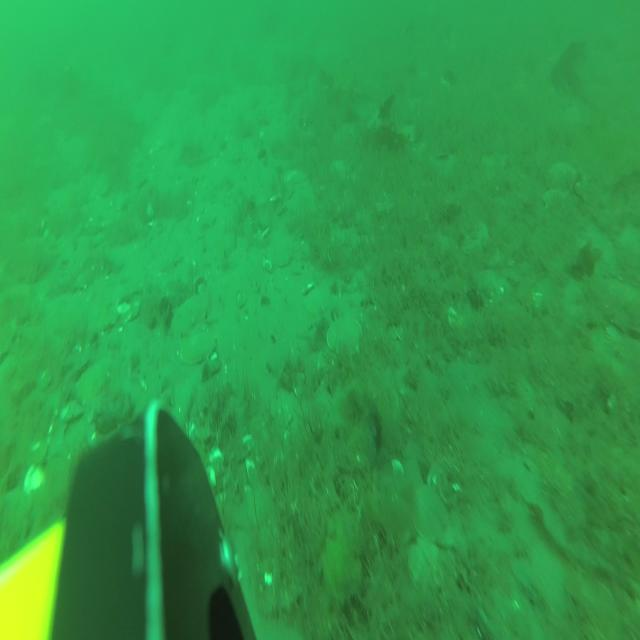scallop: (412, 482, 446, 541), (172, 290, 210, 334), (326, 316, 362, 362), (408, 536, 438, 591), (180, 327, 219, 365), (462, 221, 488, 255), (271, 236, 294, 268), (306, 287, 332, 315), (542, 186, 568, 212), (548, 162, 576, 186)
